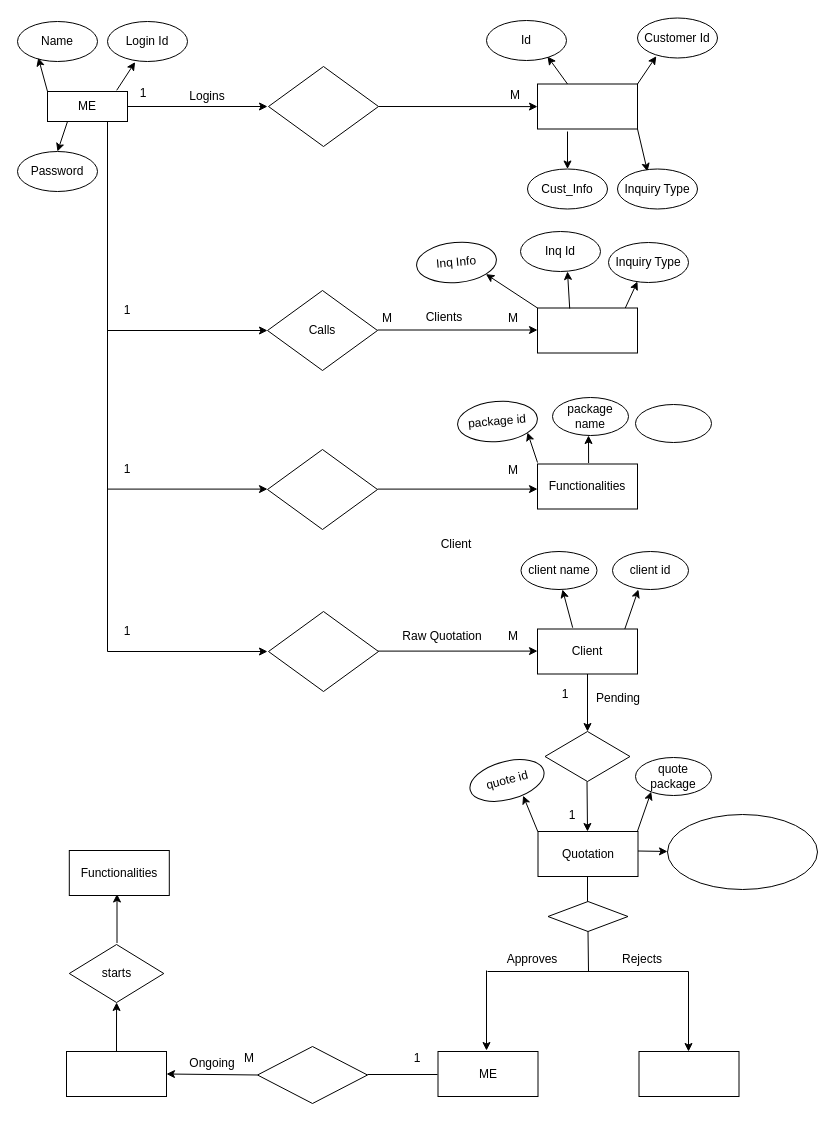
The diagram is 835 pixels wide and 1121 high, and some of its shapes have lost their labels. The box of each missing label's shape, as (x1, y1, x2, y2) in pixels:
Accountant: (66, 1050, 166, 1096)
Adds: (266, 448, 378, 530)
Changes status: (256, 1046, 368, 1104)
Creates/ Sends: (268, 610, 378, 692)
IF client: (547, 900, 628, 932)
Inquiry Portal: (536, 83, 638, 129)
ME can download, export, print or share the quotation: (666, 814, 818, 890)
package info: (634, 404, 712, 442)
Rejected: (638, 1050, 739, 1096)
Requirements: (536, 307, 638, 353)
Views: (544, 730, 630, 782)
Views Inquiries: (268, 66, 378, 146)
